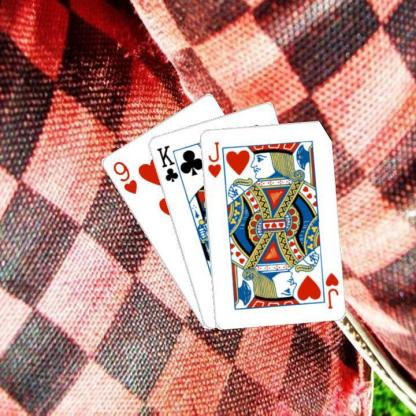9H: (110, 158, 138, 196)
JH: (204, 138, 222, 178), (322, 270, 340, 310)
KC: (154, 142, 185, 184)
